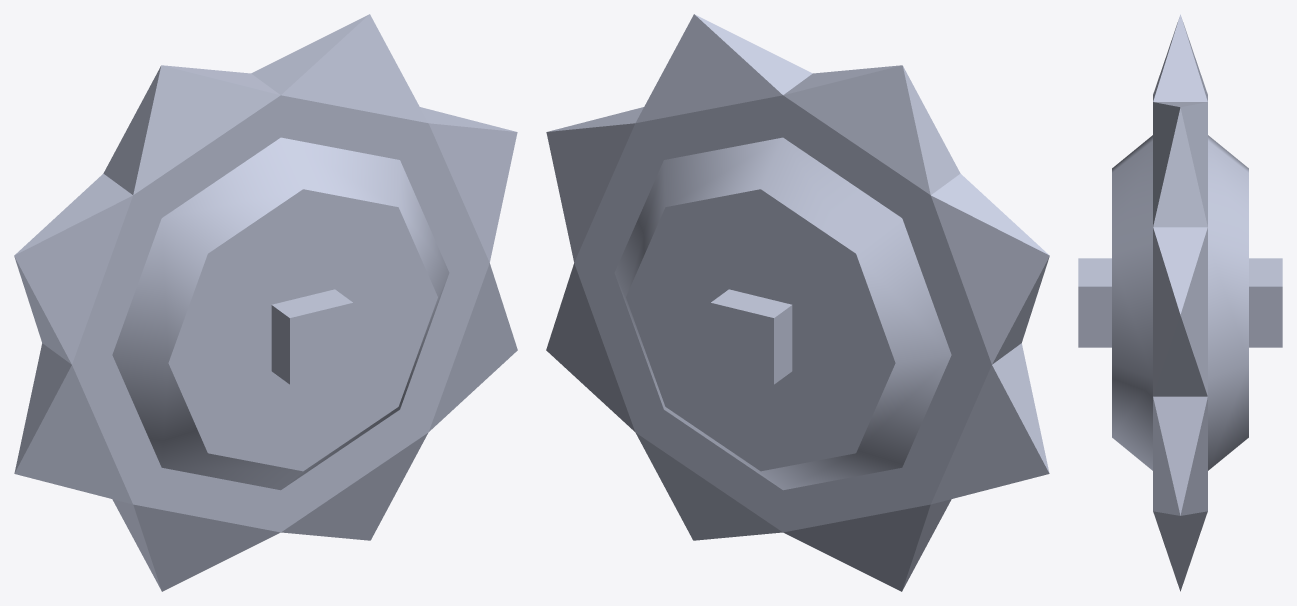
The model's file is saw.obj.
3 renders of one model, left to right at view 1: azimuth 30°, elevation 25°; view 2: azimuth 150°, elevation 25°; view 3: azimuth 270°, elevation 25°, orthographic. The views are drawn at different scales.
Parts seen in each view (by area): view 1: saw; view 2: saw; view 3: saw.
Part boxes in pixels (left/top/right/bottom): saw: left=14, top=14, right=517, bottom=591; saw: left=546, top=14, right=1049, bottom=591; saw: left=1078, top=14, right=1282, bottom=591.
Bounding box in the file's own units: 0.7937 × 0.7937 × 0.3033.
